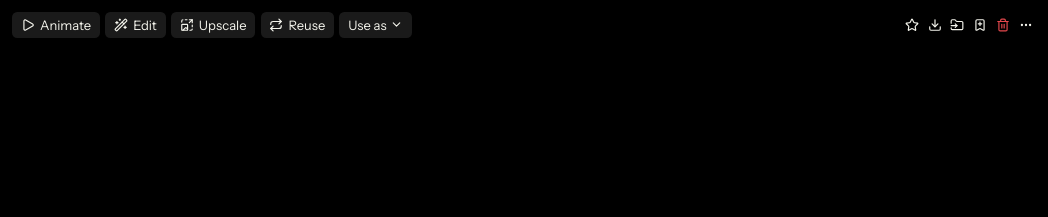
Test: an image take › leads with Animate and offers every place its picture can go
This screenshot has width=1048, height=217.
Expected: the button "Animate" is shown, [12,12,100,38]
Click the button "Use as".
click(377, 25)  # box [339,12,415,38]
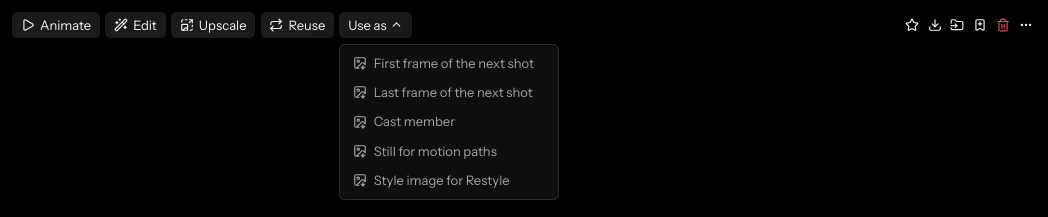
Now the menu items read "First frame of the next shot", "Last frame of the next shot", "Cast member", "Still for motion paths", "Style image for Restyle", in this order, box [344,48,555,78]; [344,78,555,107]; [344,107,555,136]; [344,136,555,166]; [344,166,555,195]
